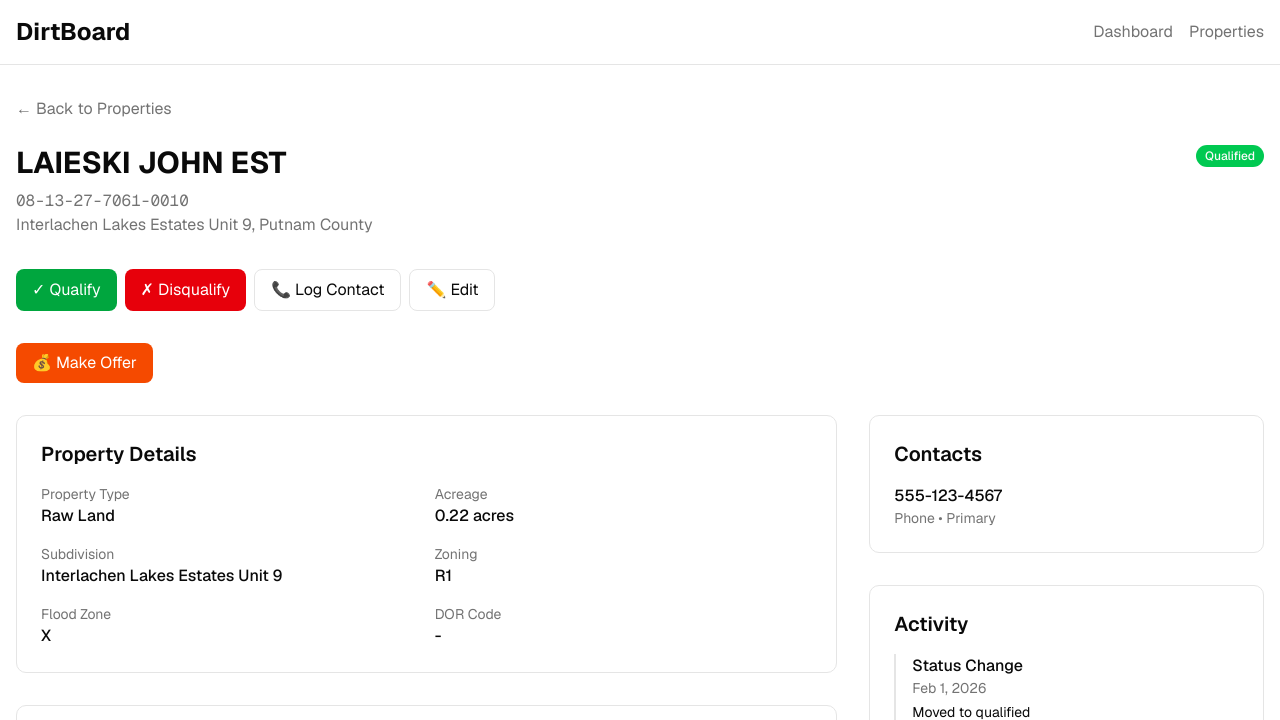
Test: Property Detail Page › Deal-close UI — Make Offer flow › opens form with offer_amount and offer_date inputs
Click the button "💰 Make Offer" at (84, 363), box top-left (16, 343), bottom-right (153, 383)
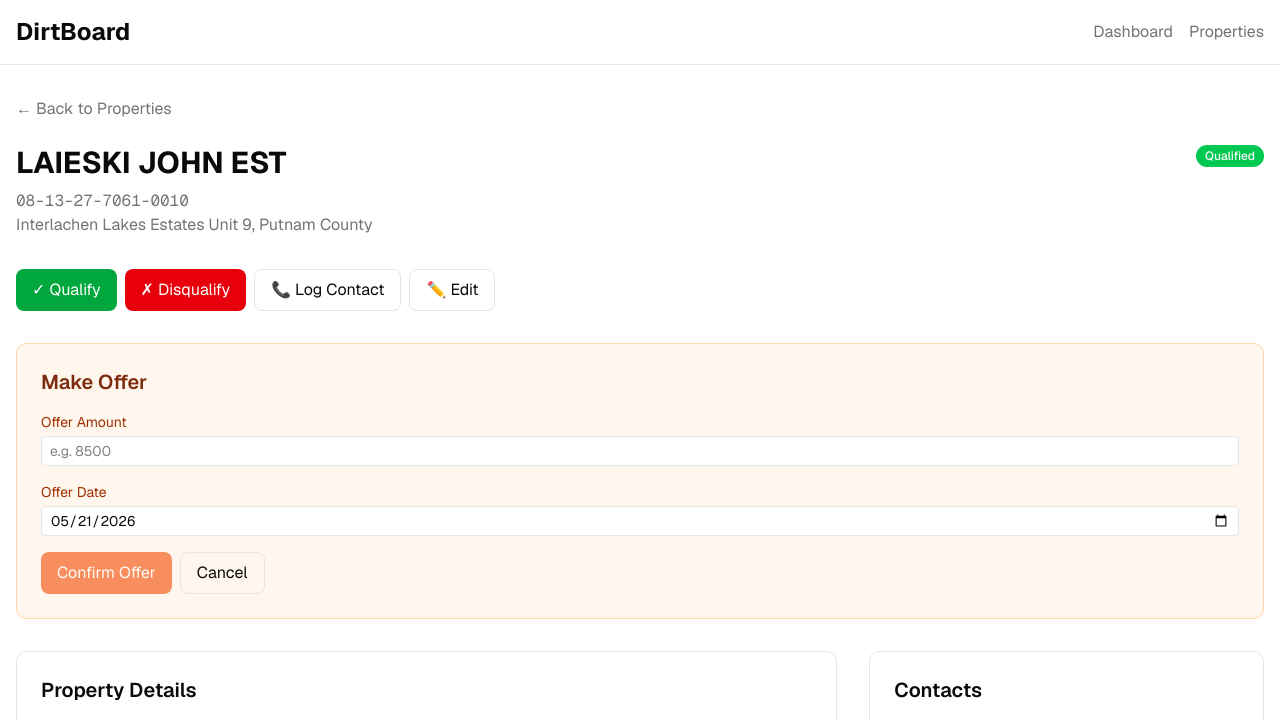
Now the number field labelled "Offer Amount" is shown, box top-left (41, 436), bottom-right (1239, 466)
Now the date field labelled "Offer Date" is shown, box top-left (41, 506), bottom-right (1239, 536)
